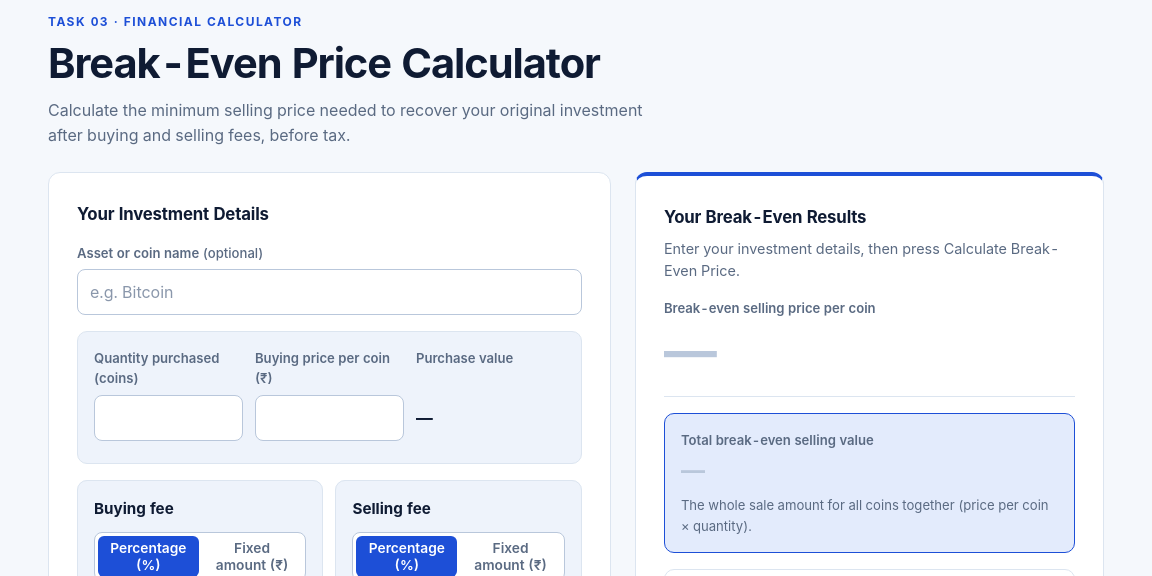
Scenario: stale results and reset › keeps the result when only the optional asset name changes, and shows the name
The width and height of the screenshot is (1152, 576).
Type "5" into the field labelled "Quantity purchased (coins)" at point(168, 418), box [94,395,243,441]
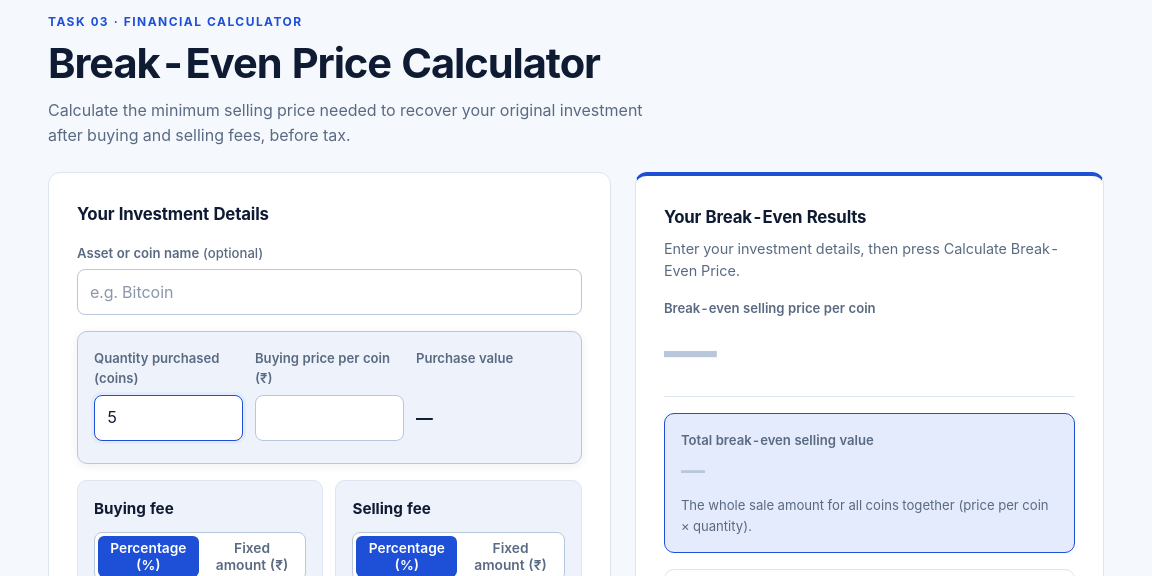
Type "100" into the field labelled "Buying price per coin (₹)" at point(330, 418), box [255,395,404,441]
(page scrolled)
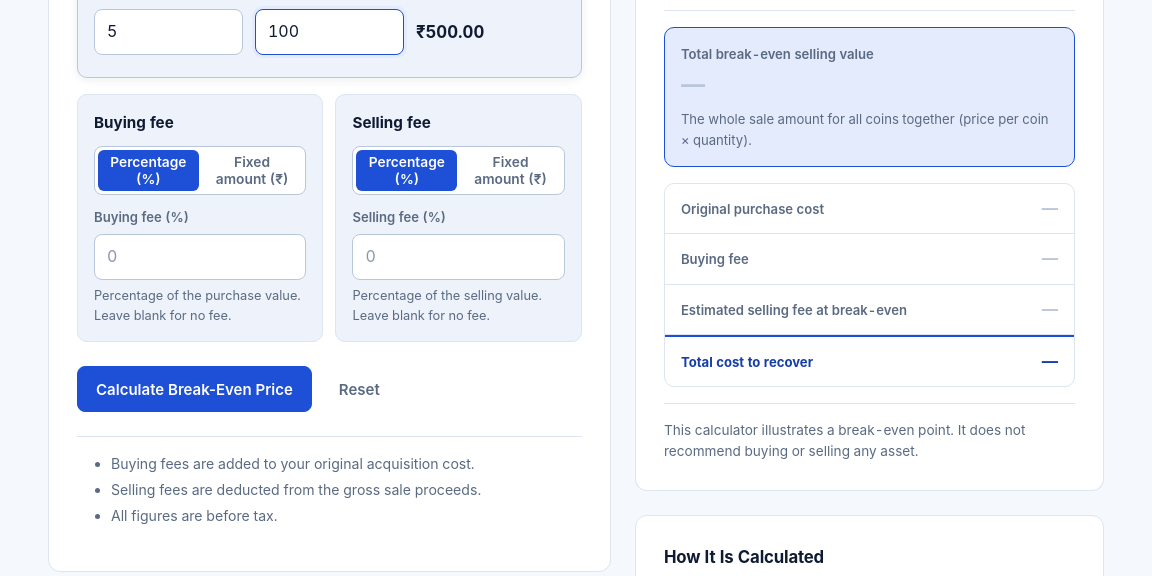
Type "1" into the field labelled "Selling fee (%)" at point(459, 257), box [352,234,565,280]
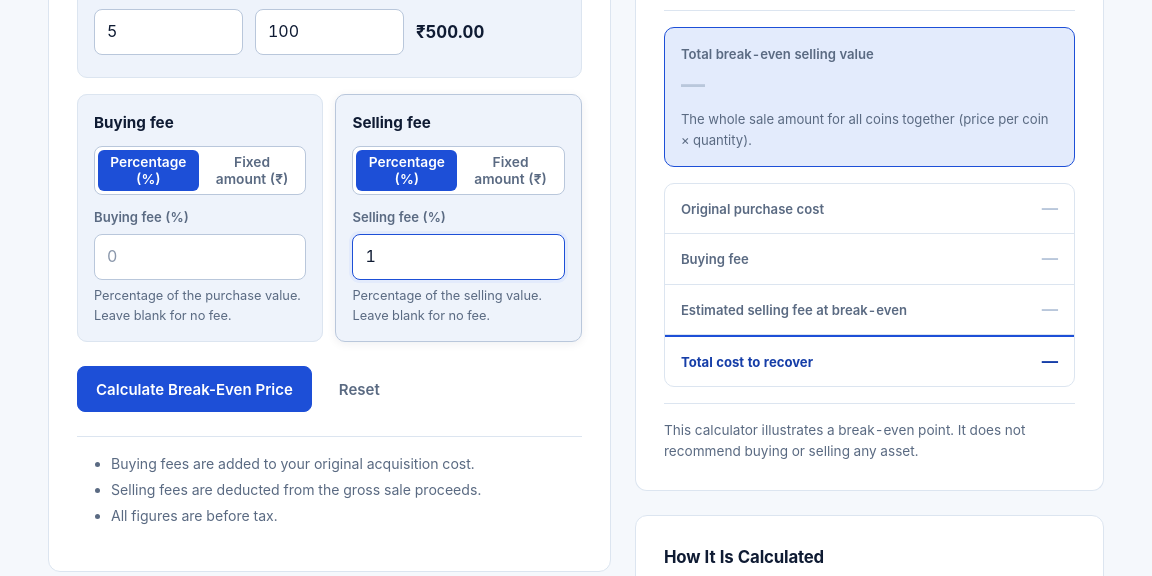
Click the button "Calculate Break-Even Price" at point(194, 389), box [77,366,312,412]
(page scrolled)
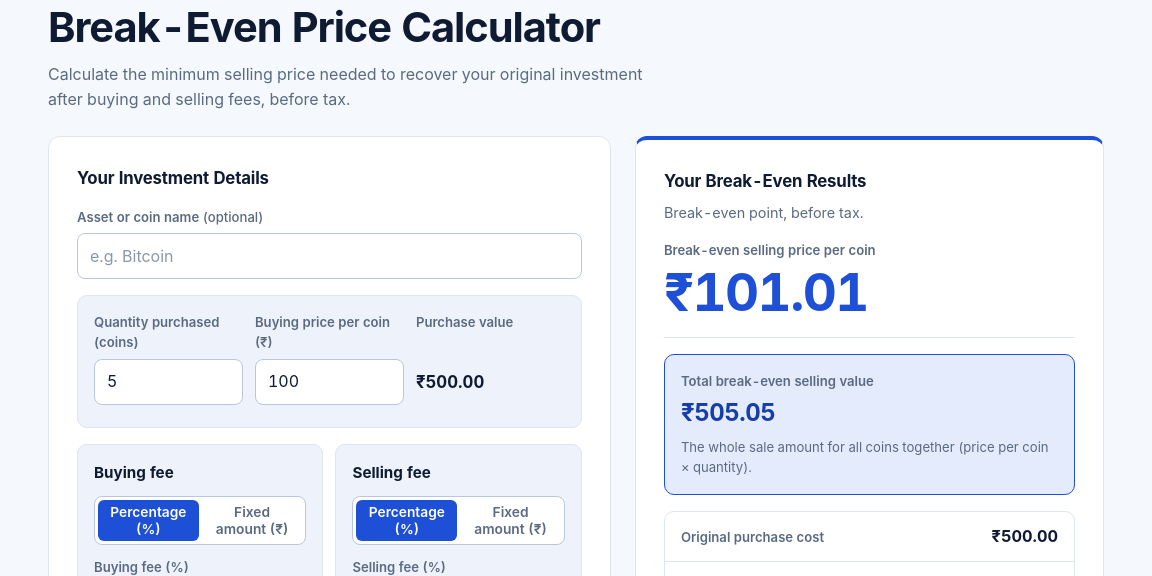
Type "Bitcoin" into the field labelled "Asset or coin name (optional)" at point(329, 256), box [77,233,582,279]
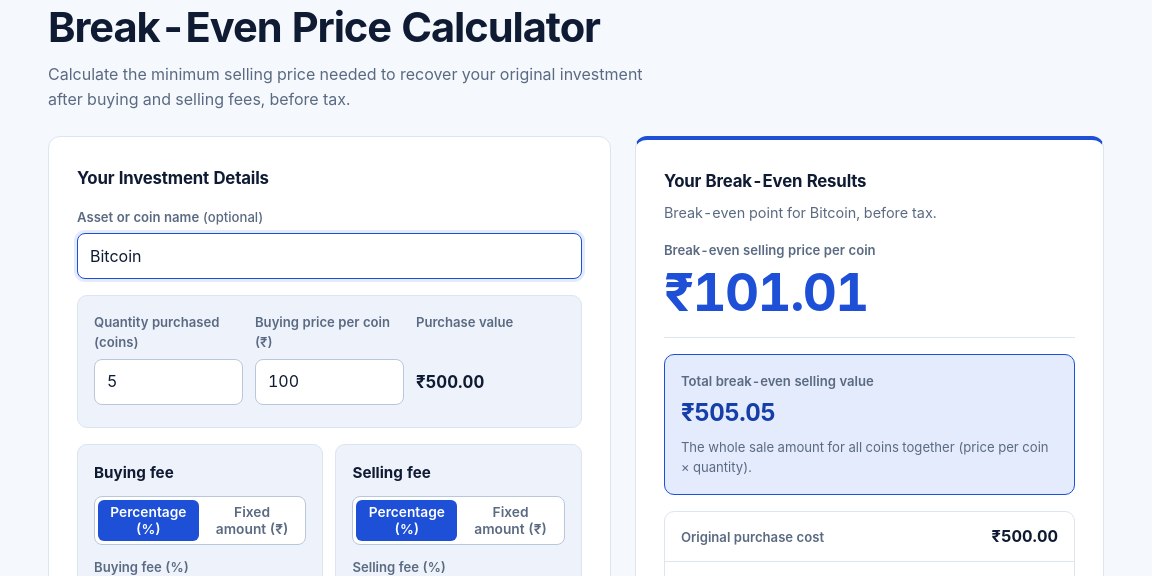
Expected: the text "Break-even point for Bitcoin, before tax." is shown, [664,204,937,221]
